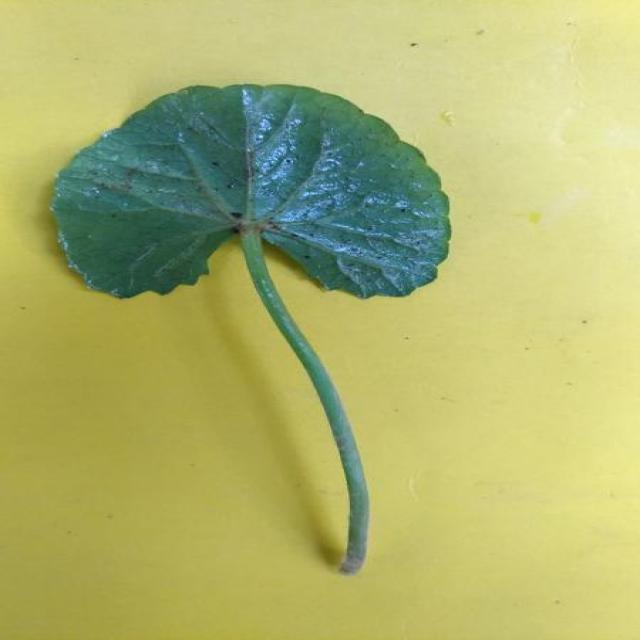defectedbhrami: (52, 85, 448, 298)
